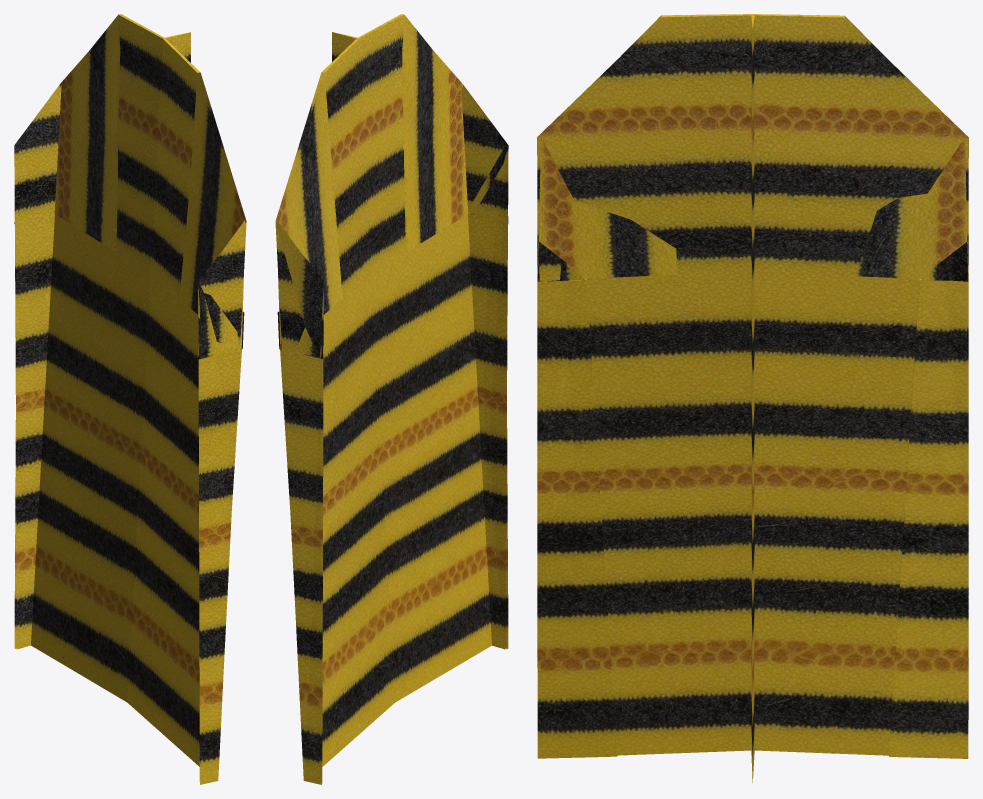
The picture shows the model from 3 angles, left to right: view 1: azimuth 30°, elevation 25°; view 2: azimuth 150°, elevation 25°; view 3: azimuth 270°, elevation 25°; orthographic projection. The views are drawn at different scales.
Parts seen in each view (by area): view 1: Origami_Model_34.001; view 2: Origami_Model_34.001; view 3: Origami_Model_34.001.
Boxes of the visible parts, x1,y1,x2,y2 form: Origami_Model_34.001: (14,14,246,784); Origami_Model_34.001: (275,14,508,784); Origami_Model_34.001: (537,14,968,782).
Bounding box in the file's own units: 0.027 × 0.2029 × 0.1036.
1 material, 1 textured.
